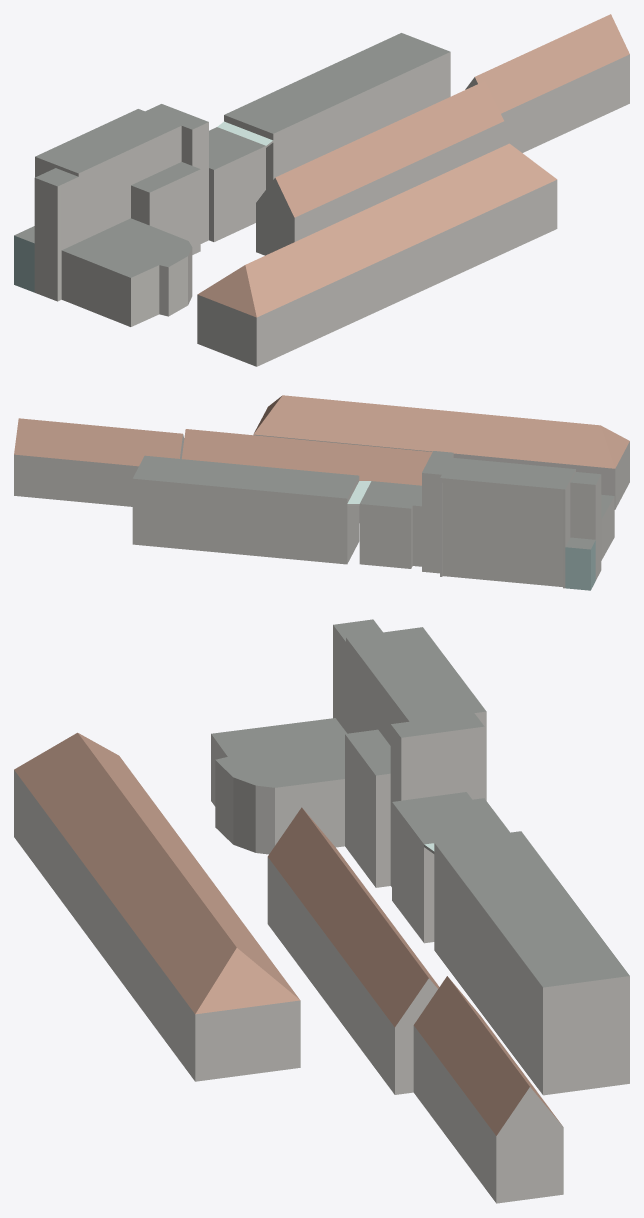
Rendered from gridID_51.dae.
The picture shows the model from 3 angles, top to bottom: view 1: azimuth 30°, elevation 25°; view 2: azimuth 150°, elevation 25°; view 3: azimuth 270°, elevation 25°; orthographic projection. The views are drawn at different scales.
Parts seen in each view (by area): view 1: model_gridID_51_w376352637_001, model_gridID_51_w378885751, model_gridID_51_w376352643, model_gridID_51_w376352641_002, model_gridID_51_w376352641_001, model_gridID_51_w376352638_002; view 2: model_gridID_51_w378885751, model_gridID_51_w376352641_002, model_gridID_51_w376352637_001, model_gridID_51_w376352641_001, model_gridID_51_w376352643, model_gridID_51_w376352638_002, model_gridID_51_w376352641_003; view 3: model_gridID_51_w376352637_001, model_gridID_51_w378885751, model_gridID_51_w376352641_002, model_gridID_51_w376352643, model_gridID_51_w376352641_001, model_gridID_51_w376352638_002.
Part boxes in pixels (<box>): model_gridID_51_w376352637_001: <box>197,143,557,366</box>; model_gridID_51_w378885751: <box>14,104,208,326</box>; model_gridID_51_w376352643: <box>256,81,504,255</box>; model_gridID_51_w376352641_002: <box>224,33,450,189</box>; model_gridID_51_w376352641_001: <box>465,14,629,152</box>; model_gridID_51_w376352638_002: <box>209,127,265,241</box>; model_gridID_51_w378885751: <box>422,451,614,590</box>; model_gridID_51_w376352641_002: <box>132,455,359,564</box>; model_gridID_51_w376352637_001: <box>253,395,629,509</box>; model_gridID_51_w376352641_001: <box>14,418,184,506</box>; model_gridID_51_w376352643: <box>181,429,432,522</box>; model_gridID_51_w376352638_002: <box>359,481,421,568</box>; model_gridID_51_w376352641_003: <box>347,481,371,505</box>; model_gridID_51_w376352637_001: <box>14,732,300,1081</box>; model_gridID_51_w378885751: <box>211,619,486,887</box>; model_gridID_51_w376352641_002: <box>434,831,629,1095</box>; model_gridID_51_w376352643: <box>267,807,439,1094</box>; model_gridID_51_w376352641_001: <box>413,976,563,1203</box>; model_gridID_51_w376352638_002: <box>392,792,509,943</box>.
Size of the model in its own units: 103 by 62.13 by 18.
